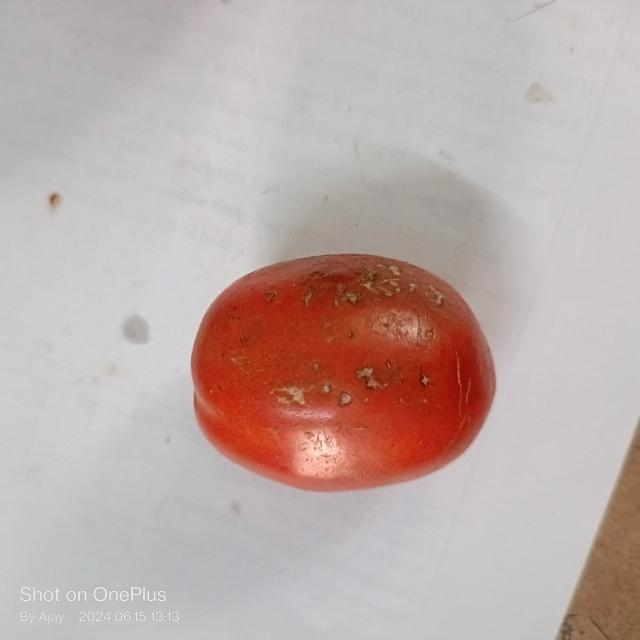Bacterial_Spot: (294, 255, 449, 320), (257, 368, 438, 412)
